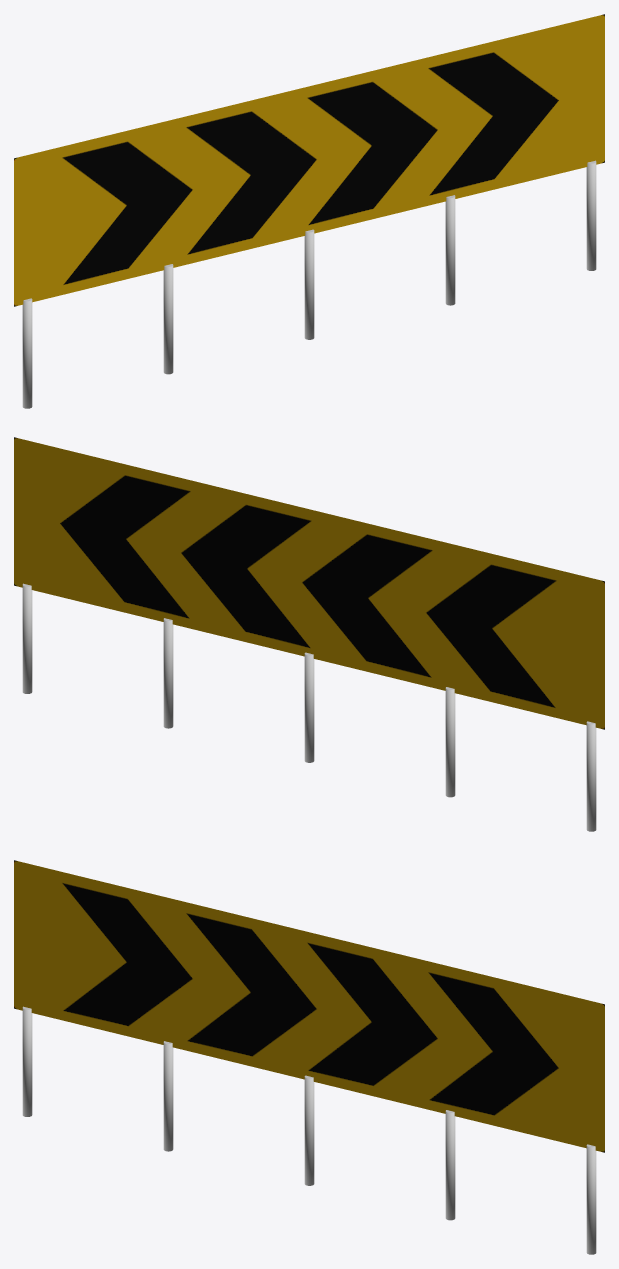
The model's file is corner_sign.obj.
3 renders of one model, top to bottom at view 1: azimuth 30°, elevation 25°; view 2: azimuth 150°, elevation 25°; view 3: azimuth 330°, elevation 25°, orthographic.
Parts seen in each view (by area): view 1: corner_sign_corner_sign_Material.001, corner_sign_corner_sign_None; view 2: corner_sign_corner_sign_Material.001, corner_sign_corner_sign_None; view 3: corner_sign_corner_sign_Material.001, corner_sign_corner_sign_None.
Part boxes in pixels (x1=…): corner_sign_corner_sign_Material.001: x1=14, y1=14, x2=604, y2=306; corner_sign_corner_sign_None: x1=22, y1=160, x2=596, y2=408; corner_sign_corner_sign_Material.001: x1=14, y1=437, x2=604, y2=729; corner_sign_corner_sign_None: x1=22, y1=583, x2=596, y2=831; corner_sign_corner_sign_Material.001: x1=14, y1=860, x2=604, y2=1152; corner_sign_corner_sign_None: x1=22, y1=1006, x2=596, y2=1254.
Size of the model in its own units: 5 by 2.03 by 0.0716.
Materials: 2 (1 with a texture image).
